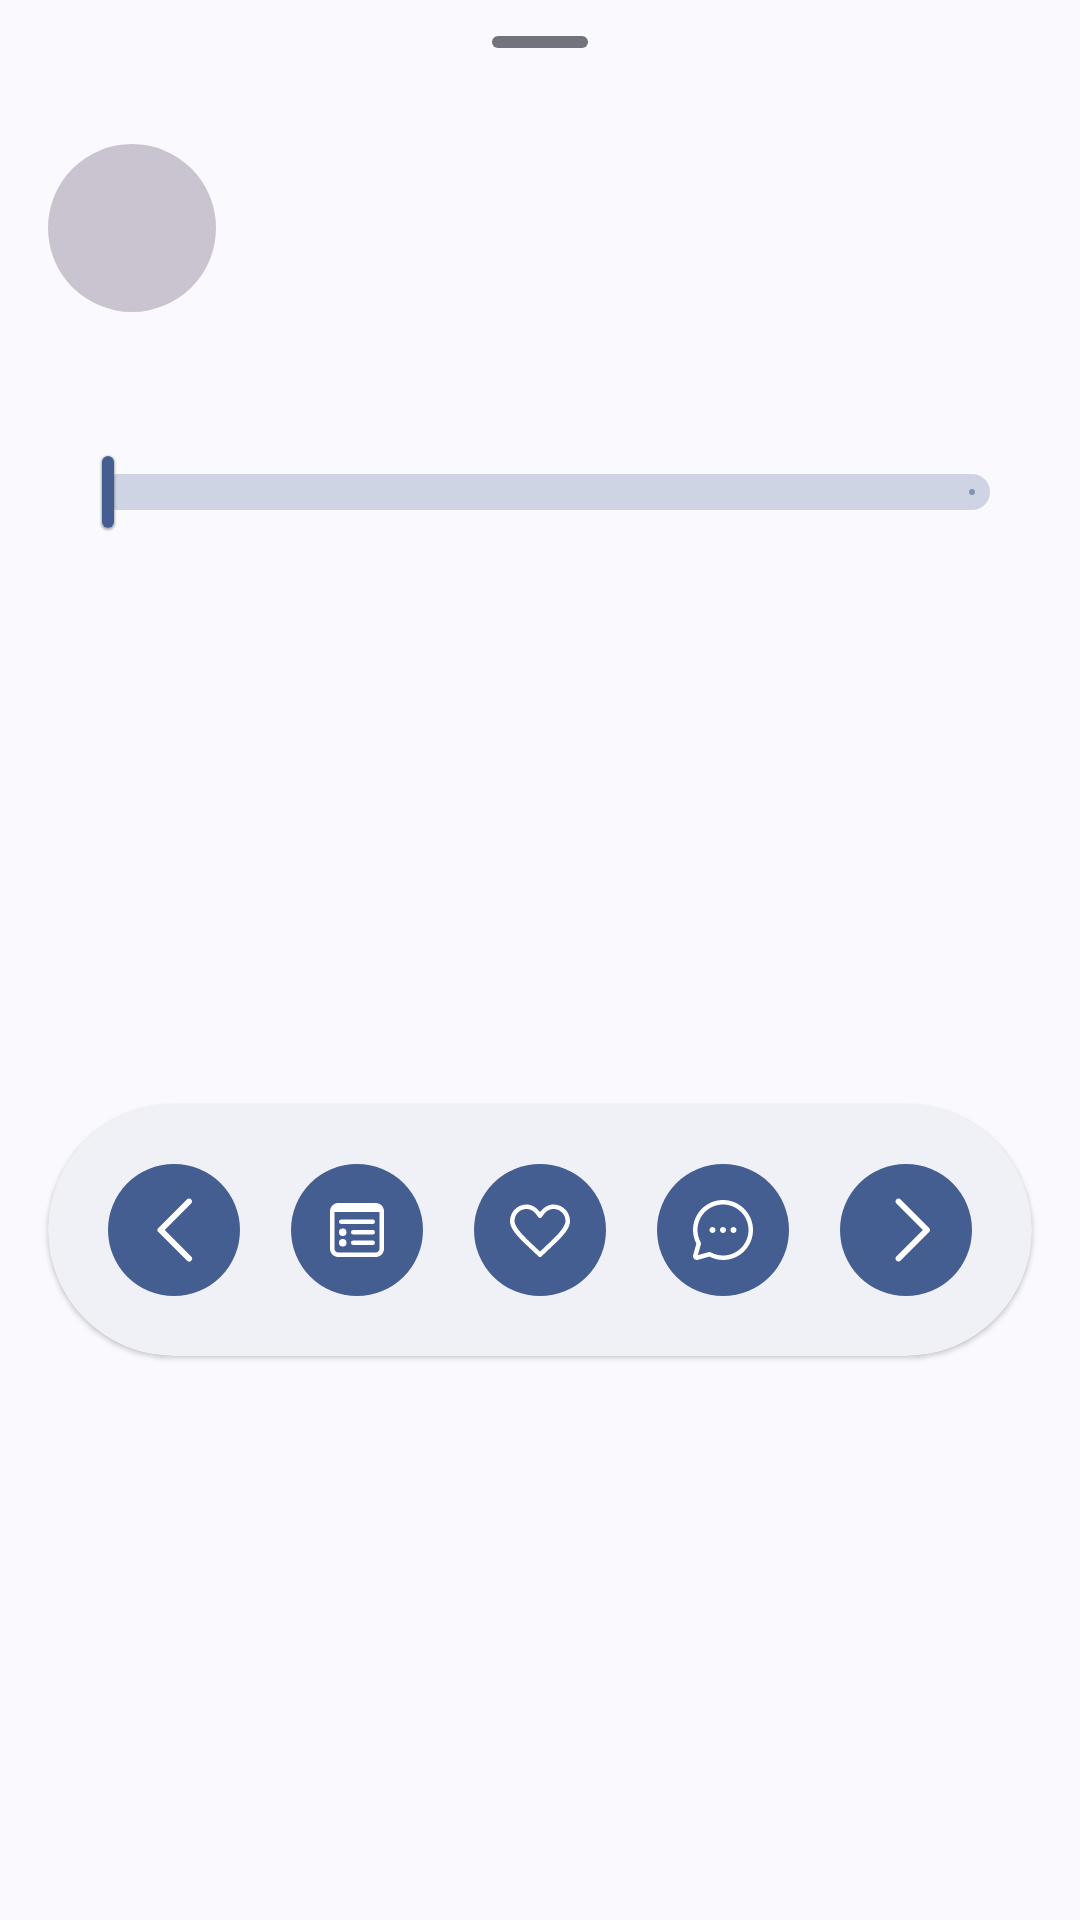

Where to tap for icons on this 1080x1920 app screen, as (x=x, y=y):
after: (x=906, y=1230)
before: (x=174, y=1230)
comment: (x=723, y=1230)
favorite: (x=540, y=1230)
list: (x=357, y=1230)
